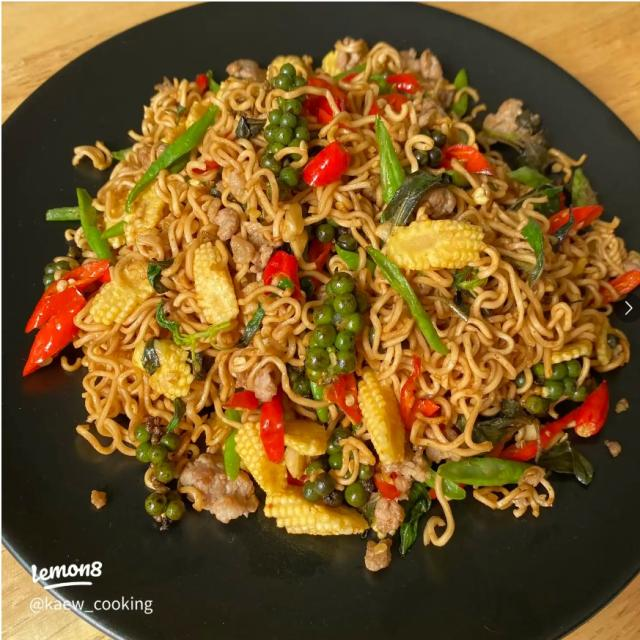carb: (386, 294, 600, 381), (232, 262, 324, 378), (477, 291, 608, 369), (84, 324, 165, 450), (163, 167, 272, 239)
meat: (186, 438, 255, 538), (485, 97, 561, 168)
stir-fried instant noodles: (32, 68, 610, 547)
vegetable: (374, 120, 450, 252), (327, 236, 369, 397), (443, 457, 535, 504), (54, 198, 114, 265)
